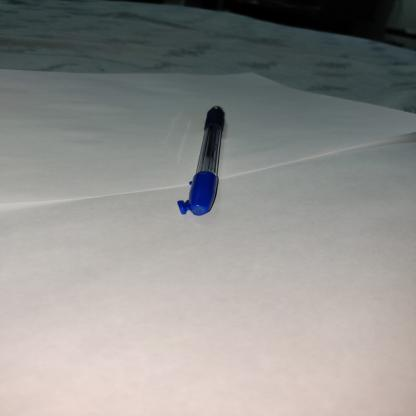Pen: (140, 92, 230, 228)
